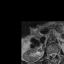CCS_normal: (52, 50, 54, 59)
LFS_normal: (56, 50, 58, 57)
LLS_normal: (54, 50, 56, 57)
RFS_stenosis: (48, 51, 50, 58)
RLS_normal: (50, 50, 52, 58)
